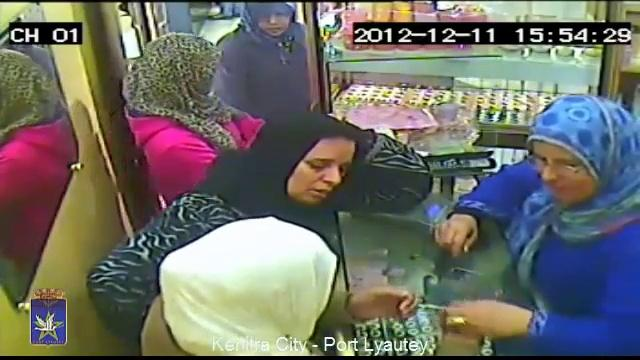1: (443, 312, 469, 341)
2: (121, 210, 472, 360)
3: (456, 73, 640, 360), (92, 41, 224, 192), (247, 109, 378, 231), (224, 0, 323, 106)
persone: (364, 134, 430, 217)
